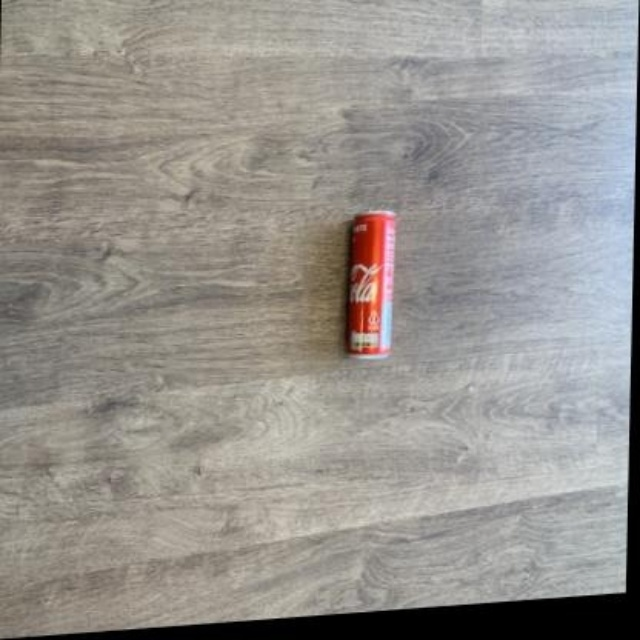trash: (346, 211, 394, 357)
